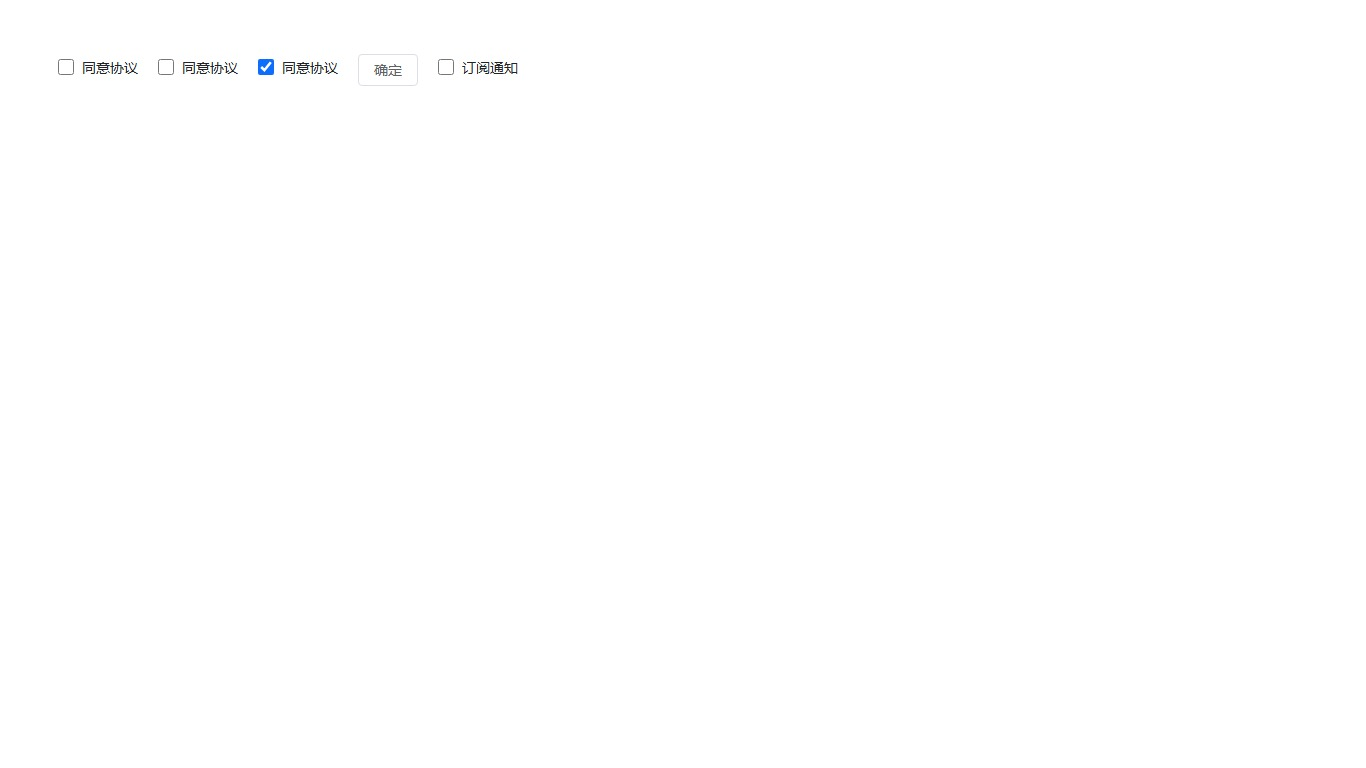button: (358, 54, 418, 86)
checkbox: (58, 59, 74, 75), (158, 59, 174, 75), (258, 59, 274, 75), (438, 59, 454, 75)
icon: (82, 58, 138, 77), (182, 58, 238, 77), (282, 58, 338, 77), (462, 58, 518, 77)
radio: (58, 58, 138, 77), (158, 58, 238, 77), (258, 58, 338, 77), (438, 58, 518, 77)
